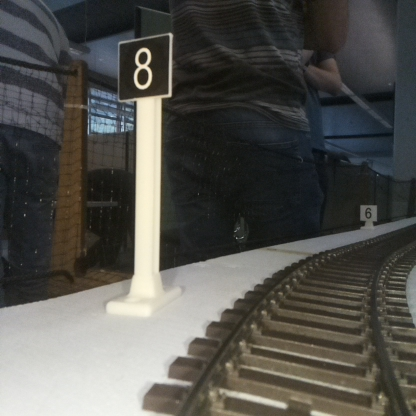black-info-8: (118, 35, 169, 311)
white-stop-6: (360, 204, 376, 229)
